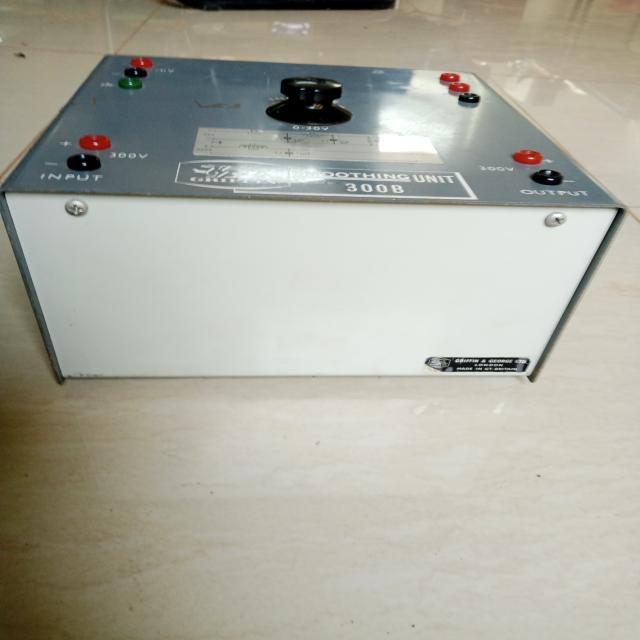Smoothing Unit: (0, 40, 631, 405)
